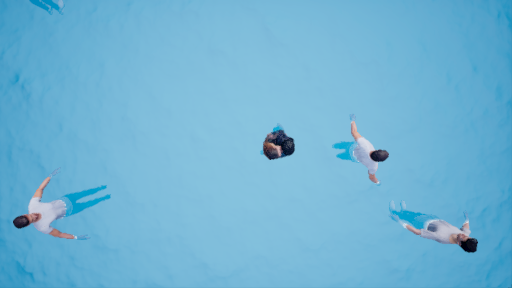person: (8, 167, 118, 241), (323, 111, 391, 188), (392, 199, 478, 256), (258, 122, 296, 161)
